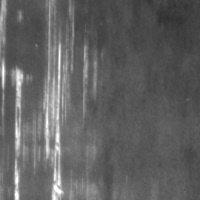scratches: (41, 17, 73, 199), (9, 65, 32, 199)
